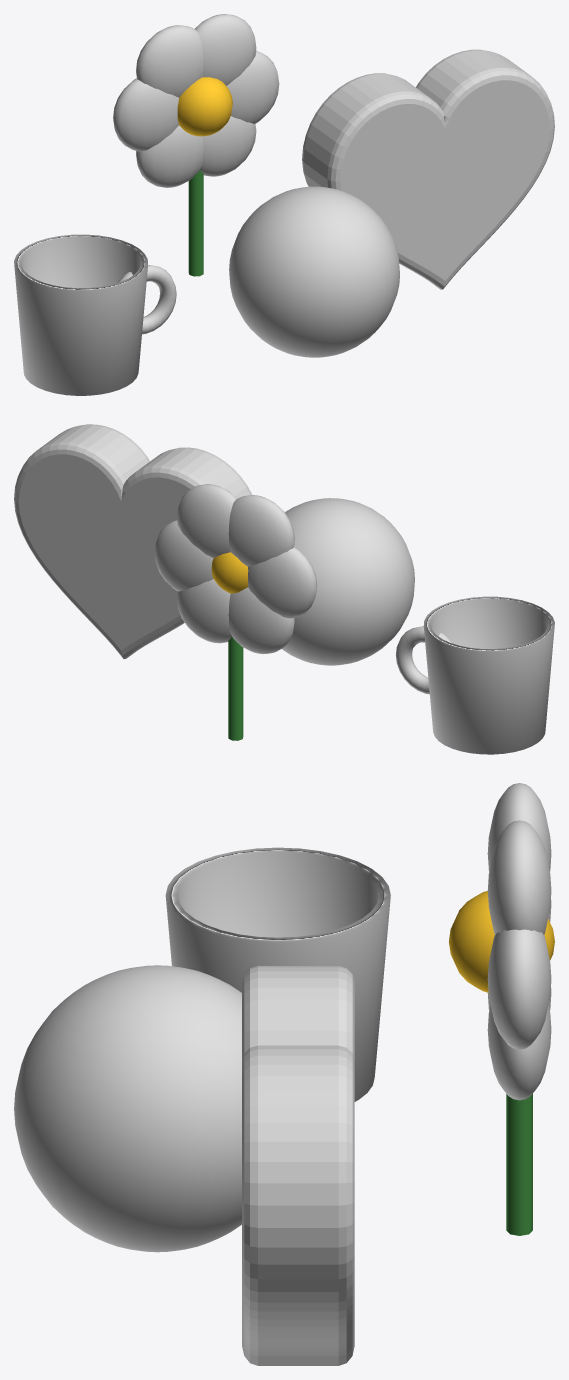
The model's file is white.glb.
The picture shows the model from 3 angles, top to bottom: view 1: azimuth 30°, elevation 25°; view 2: azimuth 150°, elevation 25°; view 3: azimuth 270°, elevation 25°; orthographic projection. The views are drawn at different scales.
Visible parts, largest first — view 1: heart, ball, flower, cup; view 2: heart, flower, cup, ball; view 3: ball, heart, cup, flower.
Part boxes in pixels (x1,y1,x2,y2): heart: [302, 49, 554, 289]; ball: [229, 186, 399, 357]; flower: [113, 14, 279, 276]; cup: [14, 234, 176, 395]; heart: [14, 424, 252, 658]; flower: [154, 484, 317, 740]; cup: [396, 596, 554, 754]; ball: [282, 498, 414, 665]; ball: [14, 965, 241, 1252]; heart: [242, 966, 354, 1365]; cup: [165, 847, 390, 1101]; flower: [449, 783, 554, 1235].
Size of the model in its own units: 2.52 by 1.16 by 1.34.
